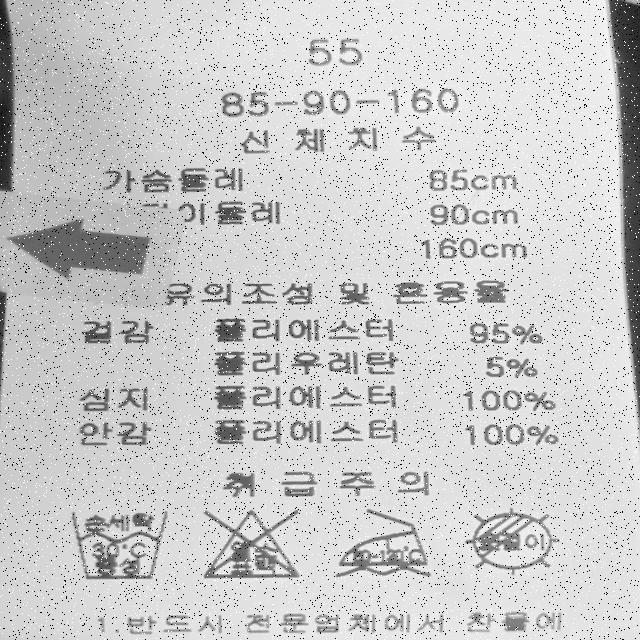KR_hand_wash_30_neutral: (60, 494, 174, 588)
KR_hang_dry_in_shade: (463, 502, 565, 584)
KR_iron_low_temp_with_cloth: (329, 498, 433, 584)
KR_no_chlorine_bleach: (194, 505, 309, 587)
